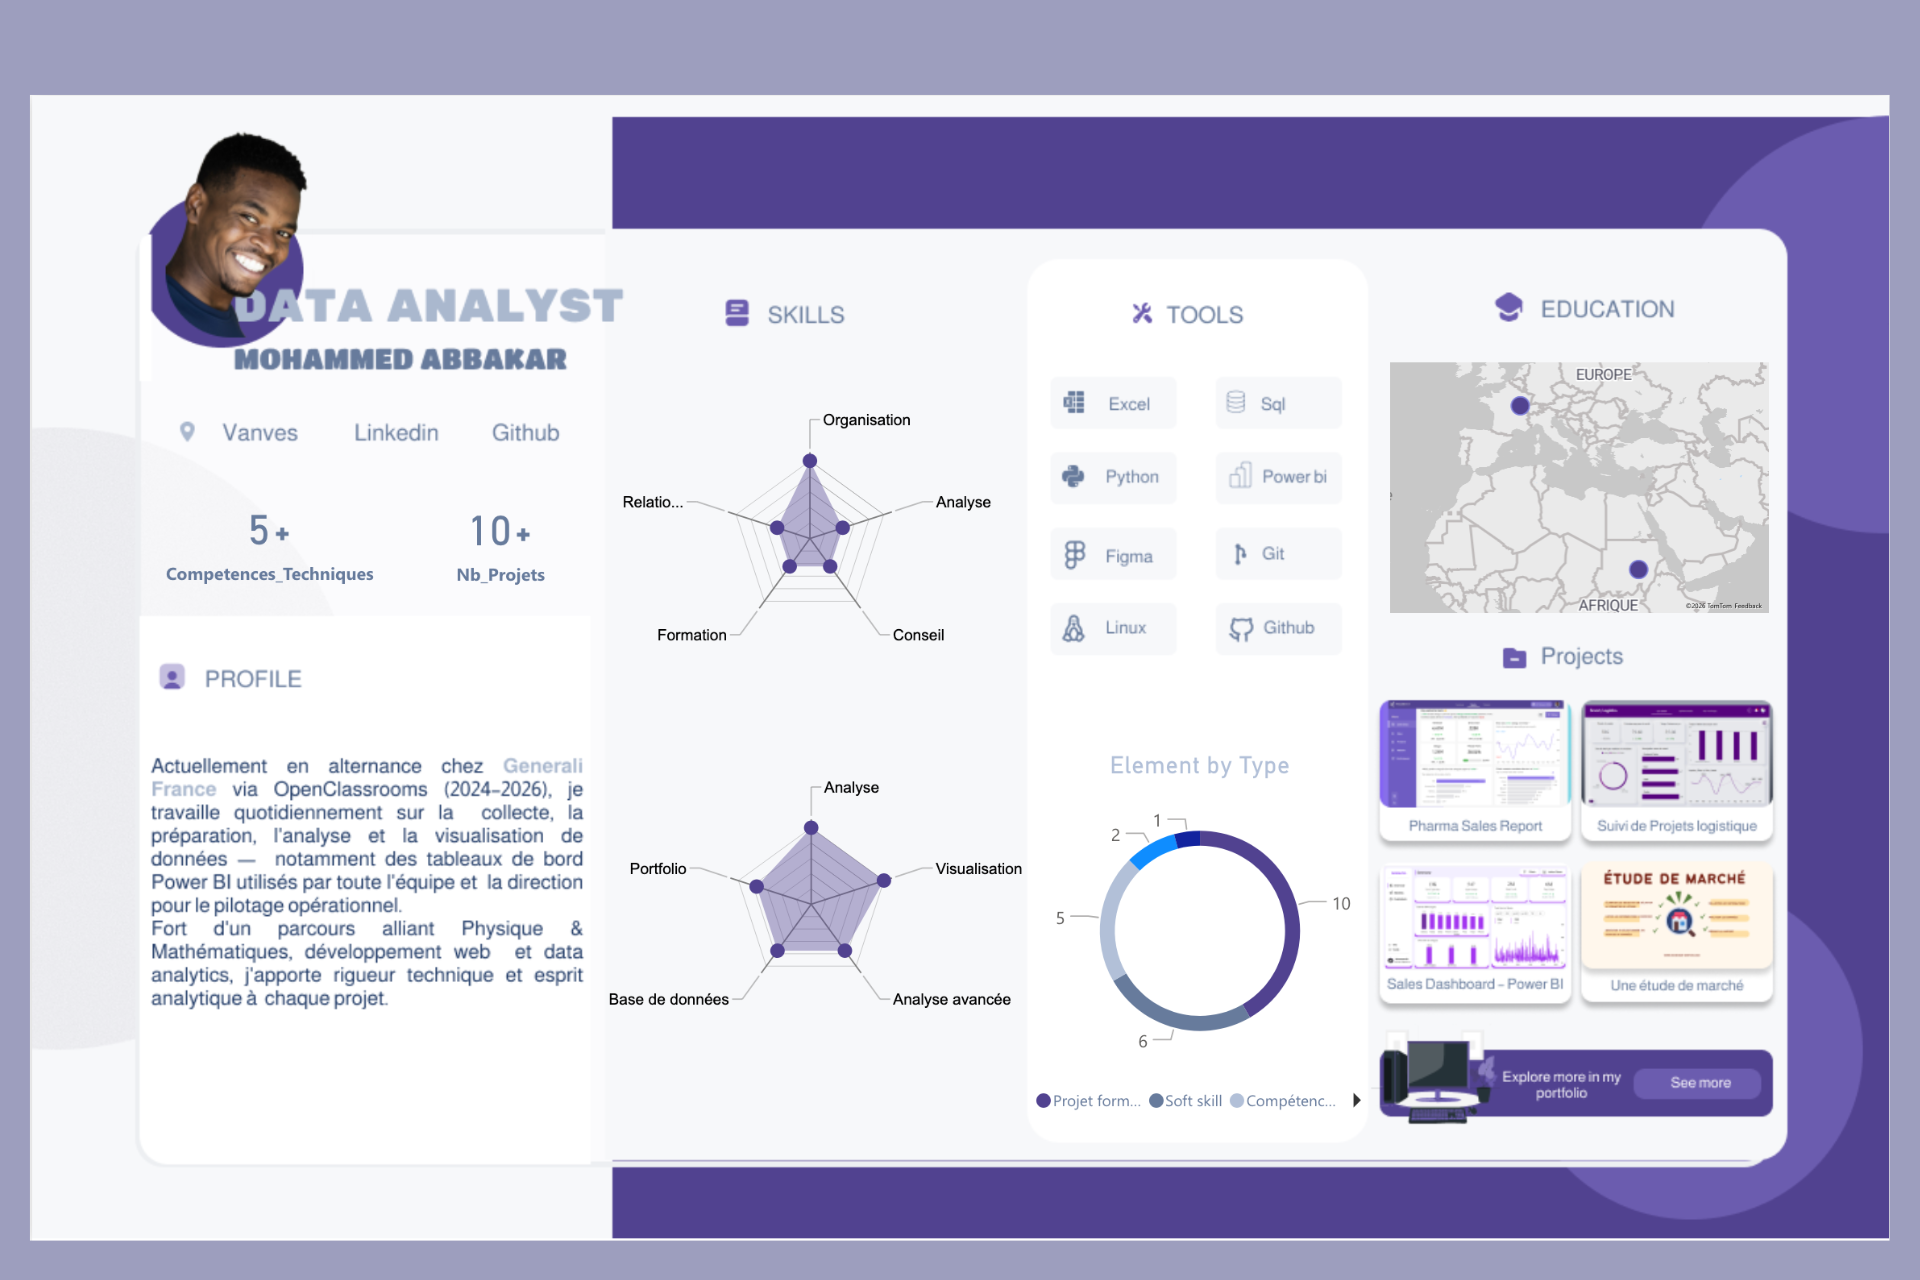

What the dashboard file says about the page in this screenshot:
{"tool":"powerbi","page":{"name":"Profil candidat","canvas":[1280,790],"ordinal":2},"visuals":[{"type":"RadarChart1446119667547","fields":{"Category":["Competences_Techniques.Categorie"],"Y":["Sum(Competences_Techniques.Niveau)"]},"box":[362.8,461.6,347.4,192.7],"z":0},{"type":"RadarChart1446119667547","fields":{"Category":["Soft_Skills.Categorie"],"Y":["Sum(Soft_Skills.Niveau)"]},"box":[375.9,208.2,321.2,195.1],"z":1000},{"type":"card","fields":{"Values":["Profil_Candidat.Nb_Competences_Techniques"]},"box":[80.9,260.5,165.4,91.6],"z":2000},{"type":"card","fields":{"Values":["Profil_Candidat.Nb_Projets"]},"box":[261.7,270,121.3,72.6],"z":3000},{"type":"azureMap","fields":{"Y":["ParcoursGeoTable.Latitude"],"X":["ParcoursGeoTable.Longitude"],"Size":["CountNonNull(ParcoursGeoTable.Niveau)"]},"box":[931.4,178.4,271.2,183.2],"z":4001},{"type":"donutChart","title":"Element by Type","fields":{"Category":["Profil_Candidat.Type"],"Y":["CountNonNull(Profil_Candidat.Element)"]},"box":[686.4,452,236.7,258.1],"z":4002},{"type":"shape","box":[931.4,529.4,127.3,96.4],"z":4003},{"type":"shape","box":[1067.1,529.4,135.6,96.4],"z":4004},{"type":"shape","box":[931.4,417.5,127.3,95.2],"z":4005},{"type":"shape","box":[309.3,217.7,73.8,33.3],"z":4006},{"type":"shape","box":[210.6,217.7,82.1,33.3],"z":4007}]}

Visuals, with their boxes on the page's 1280x790 design canvas (x1, y1, x2, y2). These are canvas units, not pixel positions in the 1920x1280 screenshot, which may show the page scaled, cropped or inside an application window:
RadarChart1446119667547 - Competences_Techniques.Categorie x Sum(Competences_Techniques.Niveau): rect(363, 462, 710, 654)
RadarChart1446119667547 - Soft_Skills.Categorie x Sum(Soft_Skills.Niveau): rect(376, 208, 697, 403)
card - Profil_Candidat.Nb_Competences_Techniques: rect(81, 260, 246, 352)
card - Profil_Candidat.Nb_Projets: rect(262, 270, 383, 343)
azureMap - ParcoursGeoTable.Latitude x ParcoursGeoTable.Longitude: rect(931, 178, 1203, 362)
"Element by Type" donutChart: rect(686, 452, 923, 710)
shape: rect(931, 529, 1059, 626)
shape: rect(1067, 529, 1203, 626)
shape: rect(931, 418, 1059, 513)
shape: rect(309, 218, 383, 251)
shape: rect(211, 218, 293, 251)
